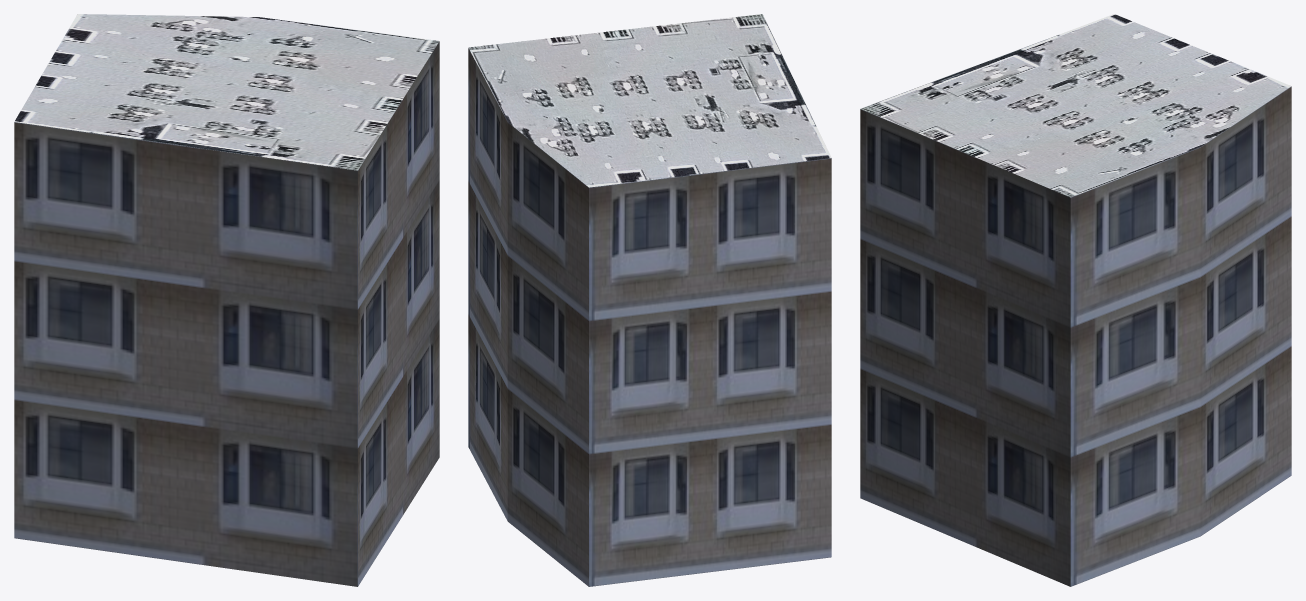
The model's file is ResTex__4876.fbx.
The picture shows the model from 3 angles, left to right: view 1: azimuth 30°, elevation 25°; view 2: azimuth 150°, elevation 25°; view 3: azimuth 270°, elevation 25°; orthographic projection. The views are drawn at different scales.
Parts seen in each view (by area): view 1: CityEngineMaterial_3_m, CityEngineMaterial_m; view 2: CityEngineMaterial_3_m, CityEngineMaterial_m; view 3: CityEngineMaterial_3_m, CityEngineMaterial_m.
Part boxes in pixels (<box>): CityEngineMaterial_3_m: <box>14,41,439,586</box>; CityEngineMaterial_m: <box>14,14,439,170</box>; CityEngineMaterial_3_m: <box>468,48,831,586</box>; CityEngineMaterial_m: <box>468,14,831,187</box>; CityEngineMaterial_3_m: <box>860,86,1291,586</box>; CityEngineMaterial_m: <box>860,14,1291,197</box>.
Size of the model in its own units: 9.1 by 9 by 9.04.
2 materials, 2 textured.
